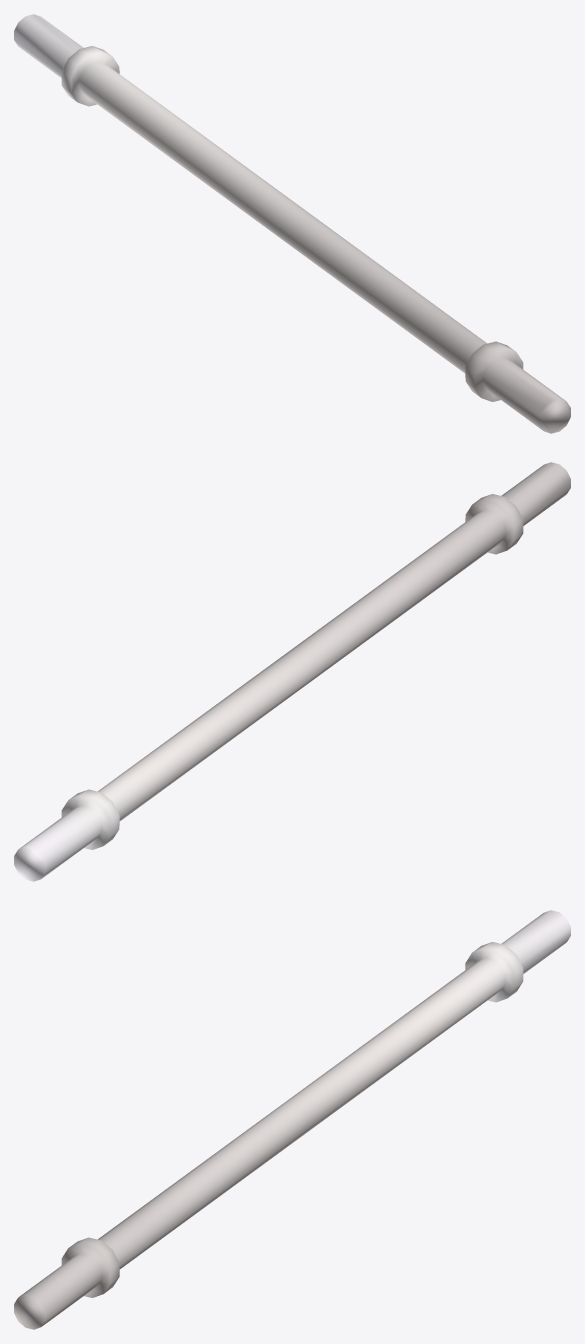
File: BarbellEmpty.glb
3 views of the same model, one above another, from view 1: azimuth 30°, elevation 25°; view 2: azimuth 150°, elevation 25°; view 3: azimuth 330°, elevation 25° (orthographic).
Visible parts, largest first — view 1: BarbellEmpty; view 2: BarbellEmpty; view 3: BarbellEmpty.
Boxes of the visible parts, x1,y1,x2,y2 form: BarbellEmpty: (14,14,570,433); BarbellEmpty: (14,462,570,881); BarbellEmpty: (14,910,570,1329).
Size of the model in its own units: 0.1112 by 0.1112 by 2.08.
Materials: 1 (1 with a texture image).
